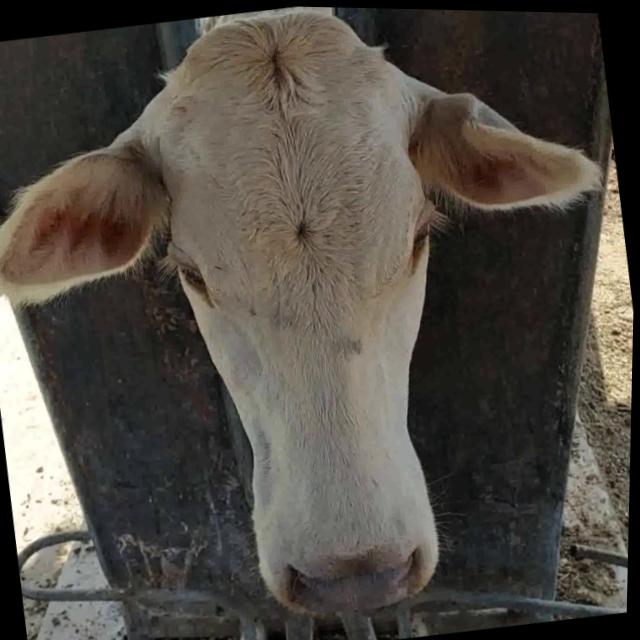cowFace: (128, 2, 484, 618)
